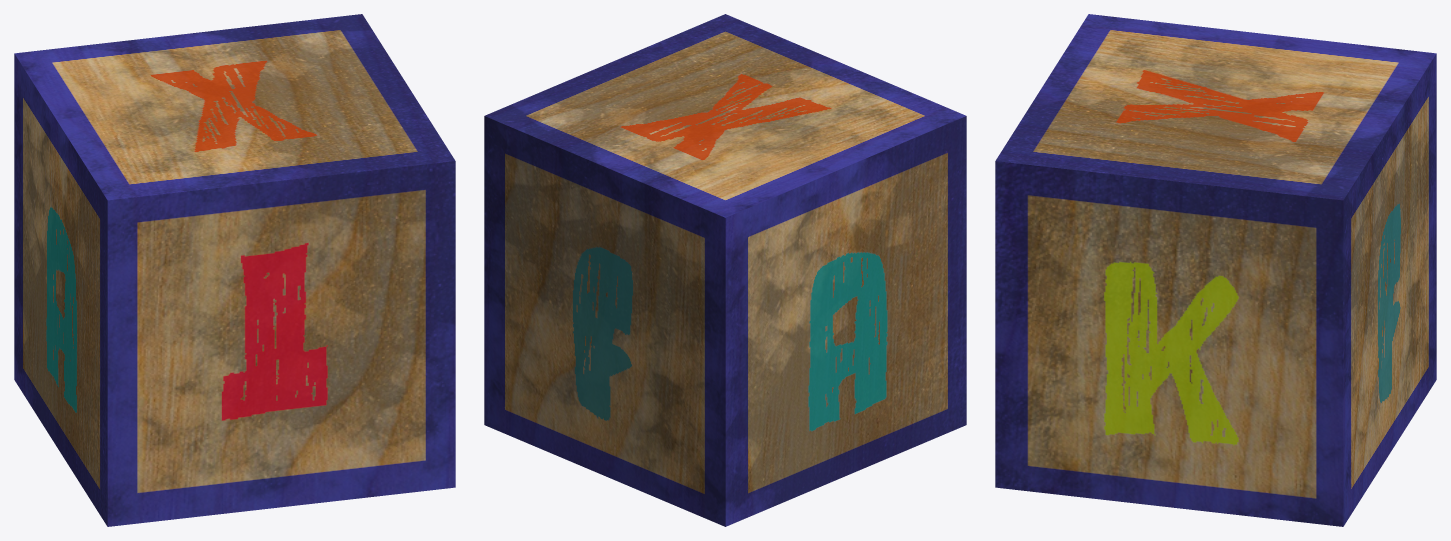
Rendered from CuboAzulDest.fbx.
3 renders of one model, left to right at view 1: azimuth 30°, elevation 25°; view 2: azimuth 150°, elevation 25°; view 3: azimuth 270°, elevation 25°, orthographic. The views are drawn at different scales.
Visible parts, largest first — view 1: CuboJuguete02; view 2: CuboJuguete02; view 3: CuboJuguete02.
Boxes of the visible parts, box(x1,y1,x2,y2) form: CuboJuguete02: box(14, 14, 455, 526); CuboJuguete02: box(484, 14, 966, 526); CuboJuguete02: box(995, 14, 1436, 526).
Bounding box in the file's own units: 10.84 × 8.85 × 10.84.
Materials: 1 (1 with a texture image).
